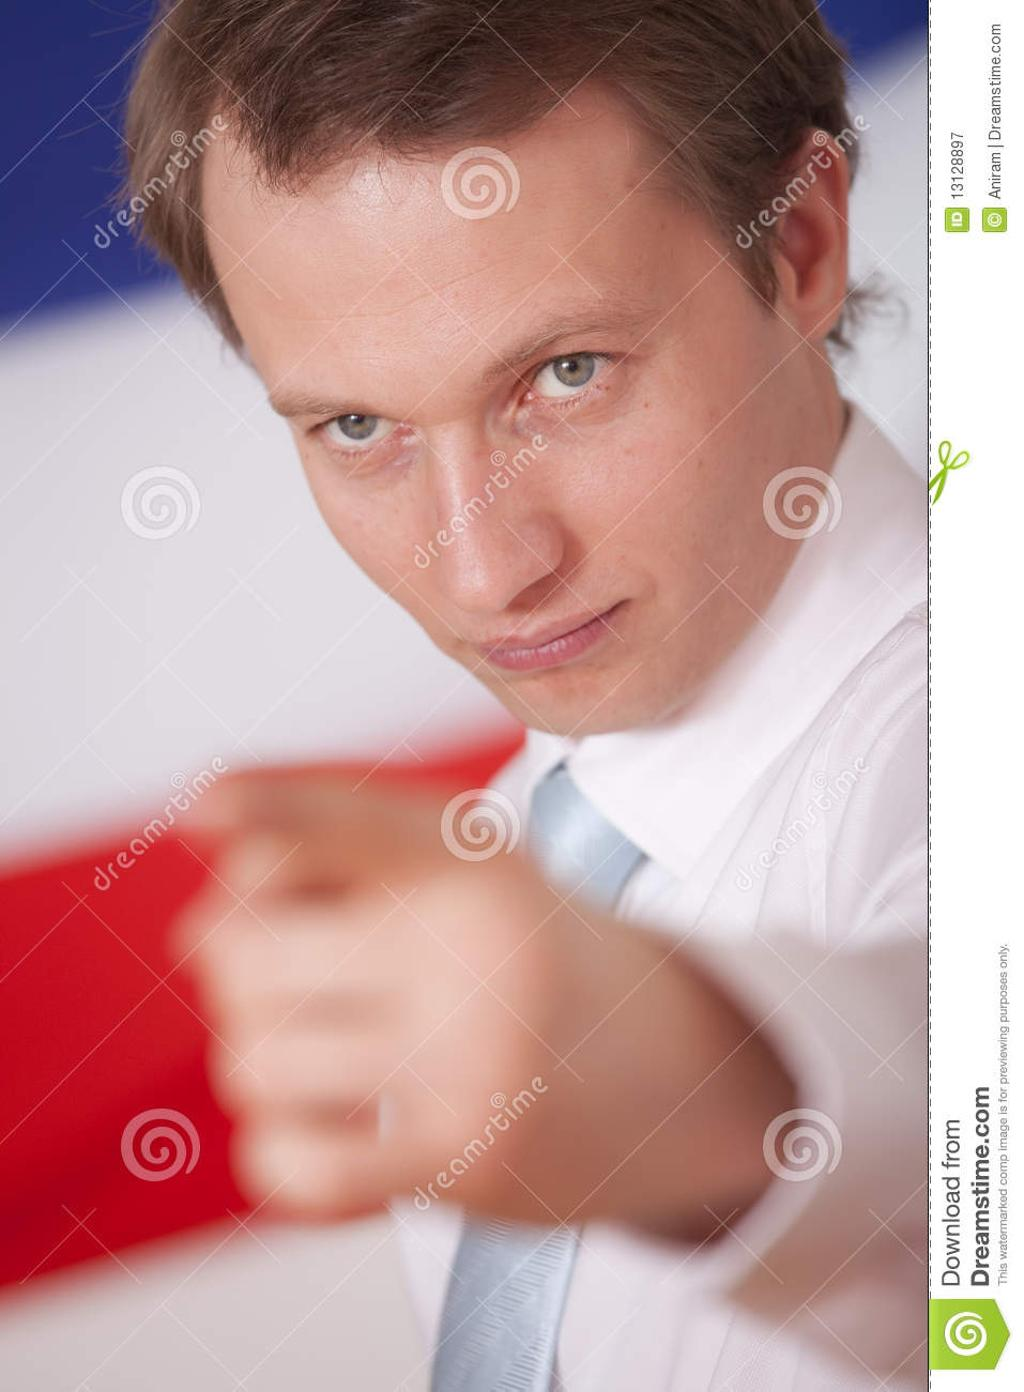face: (196, 139, 821, 742)
